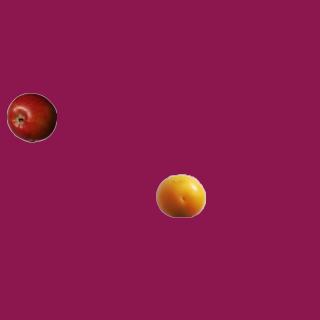Apple Braeburn: (6, 92, 56, 142)
Cherry Wax Yellow: (155, 170, 205, 220)
